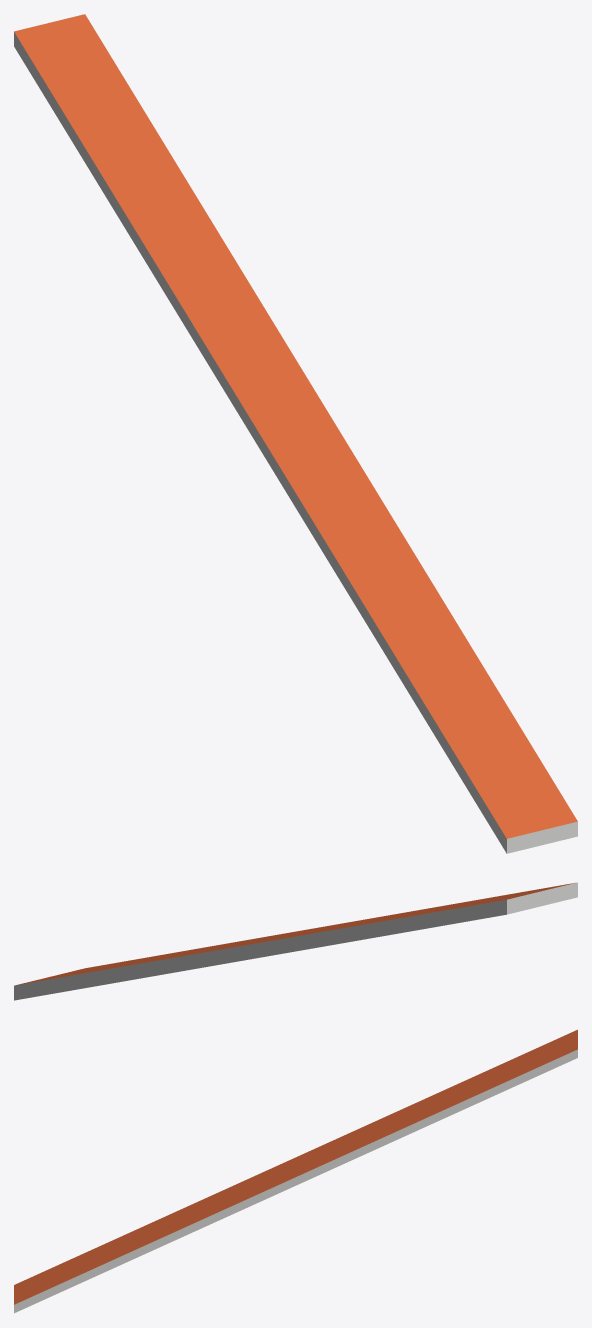
The model's file is telhado_meia_agua_v6_i50_0_5m.glb.
3 renders of one model, top to bottom at view 1: azimuth 30°, elevation 25°; view 2: azimuth 210°, elevation 25°; view 3: azimuth 270°, elevation 25°, orthographic. The views are drawn at different scales.
Parts seen in each view (by area): view 1: telhado_meia_agua_v6_i50_0_5m; view 2: telhado_meia_agua_v6_i50_0_5m; view 3: telhado_meia_agua_v6_i50_0_5m.
Boxes of the visible parts, left/top/right/bottom form: telhado_meia_agua_v6_i50_0_5m: left=14, top=14, right=577, bottom=853; telhado_meia_agua_v6_i50_0_5m: left=14, top=882, right=577, bottom=1000; telhado_meia_agua_v6_i50_0_5m: left=14, top=1029, right=577, bottom=1313.
Bounding box in the file's own units: 0.5 × 3.1 × 6.
